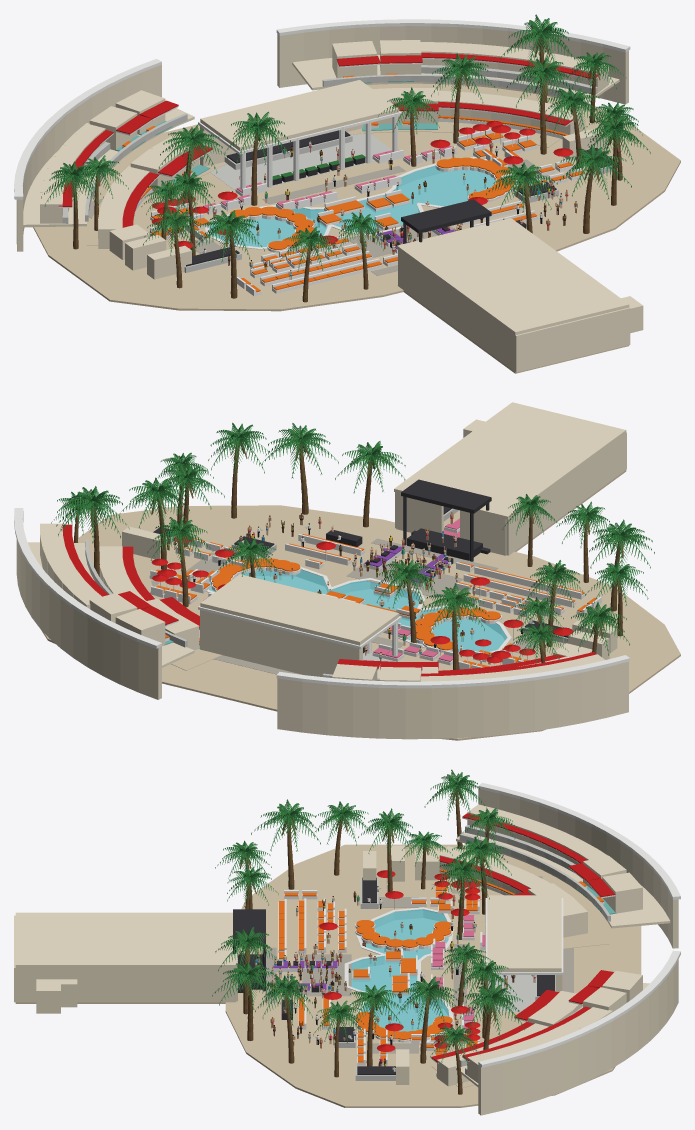
The model's file is encore-beach-club.glb.
The picture shows the model from 3 angles, top to bottom: view 1: azimuth 30°, elevation 25°; view 2: azimuth 150°, elevation 25°; view 3: azimuth 270°, elevation 25°; orthographic projection. The views are drawn at different scales.
Visible parts, largest first — view 1: Deck, Facade, Backstage_Roof, Backstage_Walls, Gaming_Roof, Terrace_Upper, Pool_Water, Gaming_Pavilion, Pool_Basin, Walkway_Paths, Terrace_Lower, Stage_Truss (+49 smaller); view 2: Facade, Deck, Backstage_Roof, Gaming_Roof, Backstage_Walls, Gaming_Pavilion, Pool_Water, Pool_Basin, Walkway_Paths, Stage_Truss, Palm_17, Palm_07 (+29 smaller); view 3: Deck, Facade, Backstage_Roof, Backstage_Walls, Gaming_Roof, Pool_Water, Pool_Basin, Walkway_Paths, Terrace_Upper, T_6, Palm_17, Palm_04 (+39 smaller).
Boxes of the visible parts, <box> form: Deck: <box>33,83,680,311</box>; Facade: <box>14,19,630,251</box>; Backstage_Roof: <box>397,218,629,335</box>; Backstage_Walls: <box>398,249,643,372</box>; Gaming_Roof: <box>198,80,401,154</box>; Terrace_Upper: <box>23,55,619,227</box>; Pool_Water: <box>209,166,495,247</box>; Gaming_Pavilion: <box>200,114,397,190</box>; Pool_Basin: <box>209,167,495,246</box>; Walkway_Paths: <box>88,139,548,275</box>; Terrace_Lower: <box>87,121,560,245</box>; Stage_Truss: <box>401,199,491,243</box>; Facade: <box>14,508,630,739</box>; Deck: <box>41,505,680,740</box>; Backstage_Roof: <box>394,402,626,519</box>; Gaming_Roof: <box>198,574,401,648</box>; Backstage_Walls: <box>395,419,626,555</box>; Gaming_Pavilion: <box>200,610,397,676</box>; Pool_Water: <box>209,570,506,652</box>; Pool_Basin: <box>209,570,506,651</box>; Walkway_Paths: <box>151,538,546,674</box>; Stage_Truss: <box>401,479,491,561</box>; Palm_17: <box>56,486,129,576</box>; Palm_07: <box>262,423,338,514</box>; Deck: <box>225,844,641,1107</box>; Facade: <box>478,783,680,1115</box>; Backstage_Roof: <box>15,912,237,967</box>; Backstage_Walls: <box>14,915,237,1013</box>; Gaming_Roof: <box>485,895,563,974</box>; Pool_Water: <box>351,909,449,1031</box>; Pool_Basin: <box>352,911,448,1031</box>; Walkway_Paths: <box>265,876,573,1053</box>; Terrace_Upper: <box>456,832,670,1086</box>; T_6: <box>587,872,642,914</box>; Palm_17: <box>457,981,524,1050</box>; Palm_04: <box>251,799,320,889</box>.
Size of the model in its own units: 105 by 17.57 by 105.
Materials: 2 (1 with a texture image).
